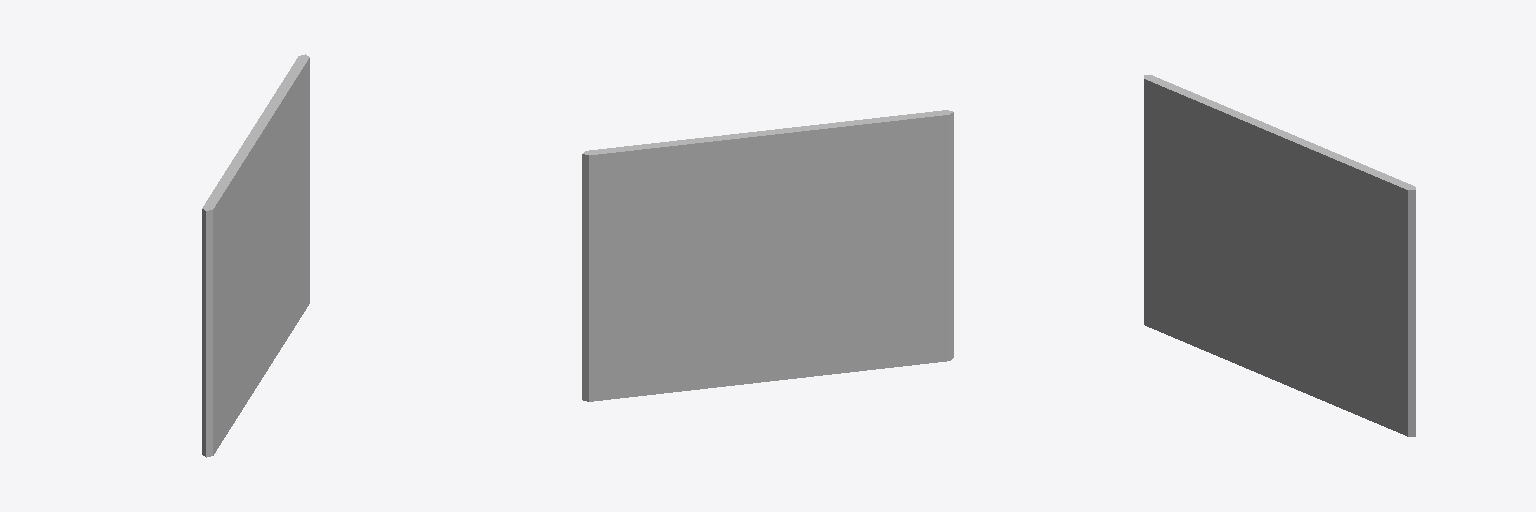
File: mid.obj
3 views of the same model, side by side, from view 1: azimuth 30°, elevation 25°; view 2: azimuth 150°, elevation 25°; view 3: azimuth 270°, elevation 25° (orthographic).
Visible parts, largest first — view 1: Cube_Cube.001; view 2: Cube_Cube.001; view 3: Cube_Cube.001.
Part boxes in pixels (left/top/right/bottom): Cube_Cube.001: left=202, top=54, right=309, bottom=457; Cube_Cube.001: left=582, top=110, right=953, bottom=401; Cube_Cube.001: left=1144, top=75, right=1415, bottom=436.
Bounding box in the file's own units: 1 × 1 × 1.